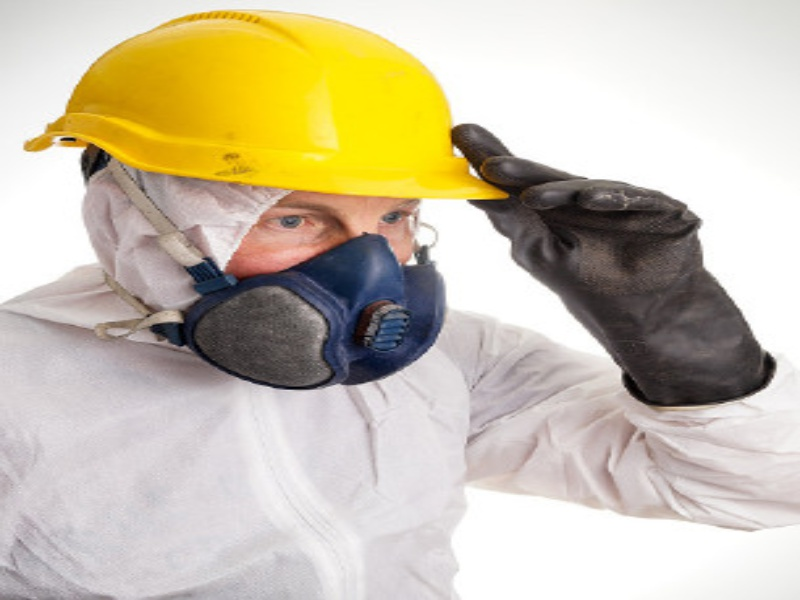mask: (77, 19, 473, 388)
